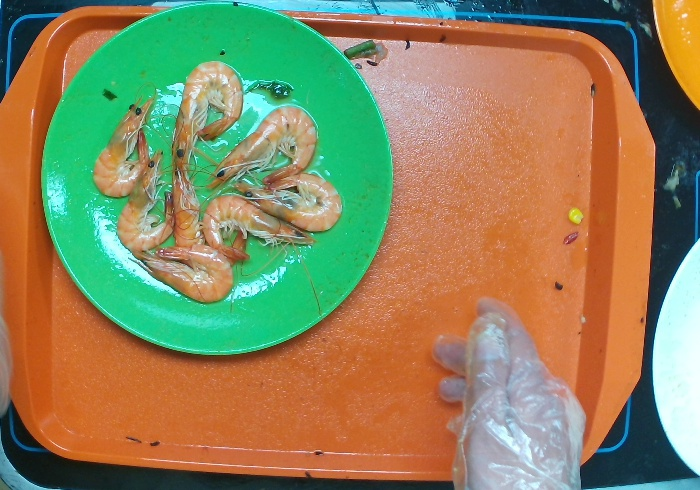HZYJPL-Lv_Se_Yuan_Pan: (39, 1, 393, 357)
